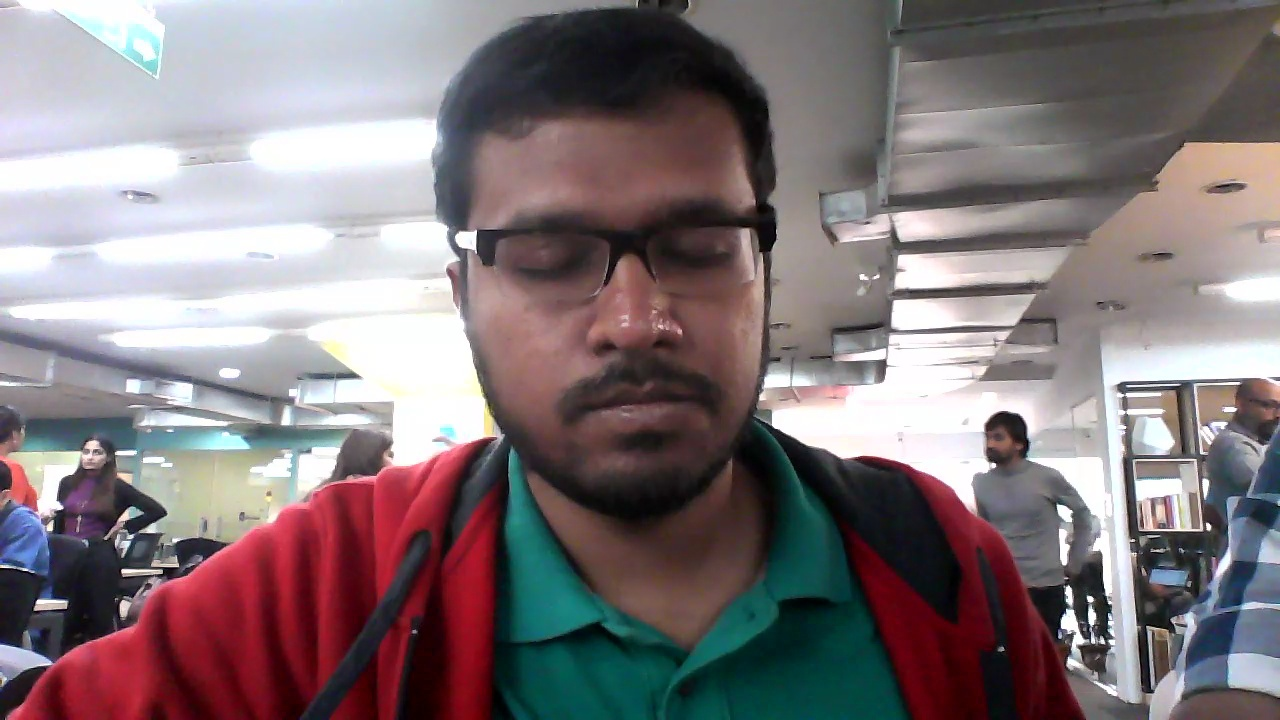closed: (443, 9, 784, 533)
